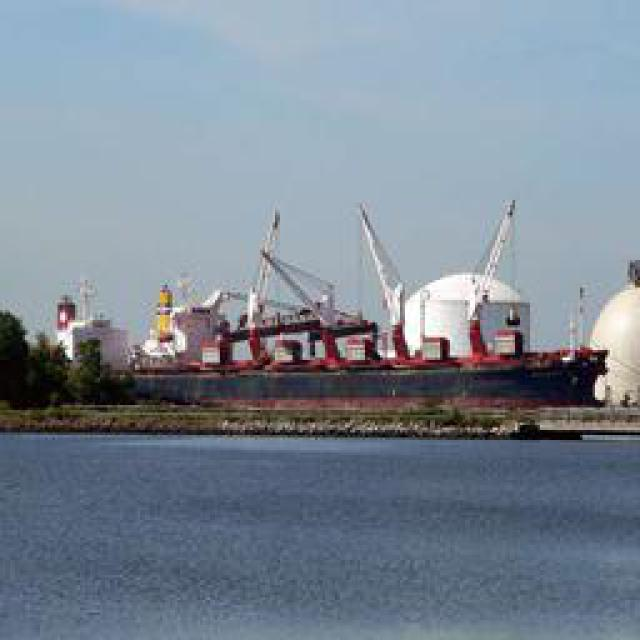Ship: (69, 203, 629, 418)
